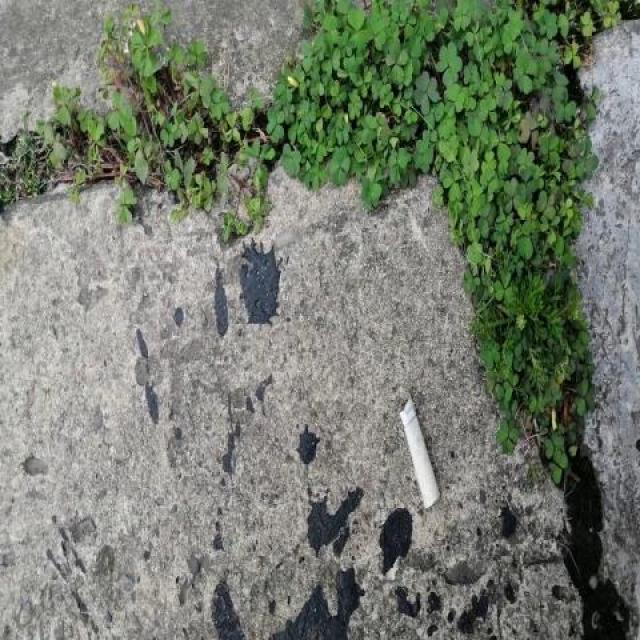non-organic waste: (397, 389, 446, 512)
